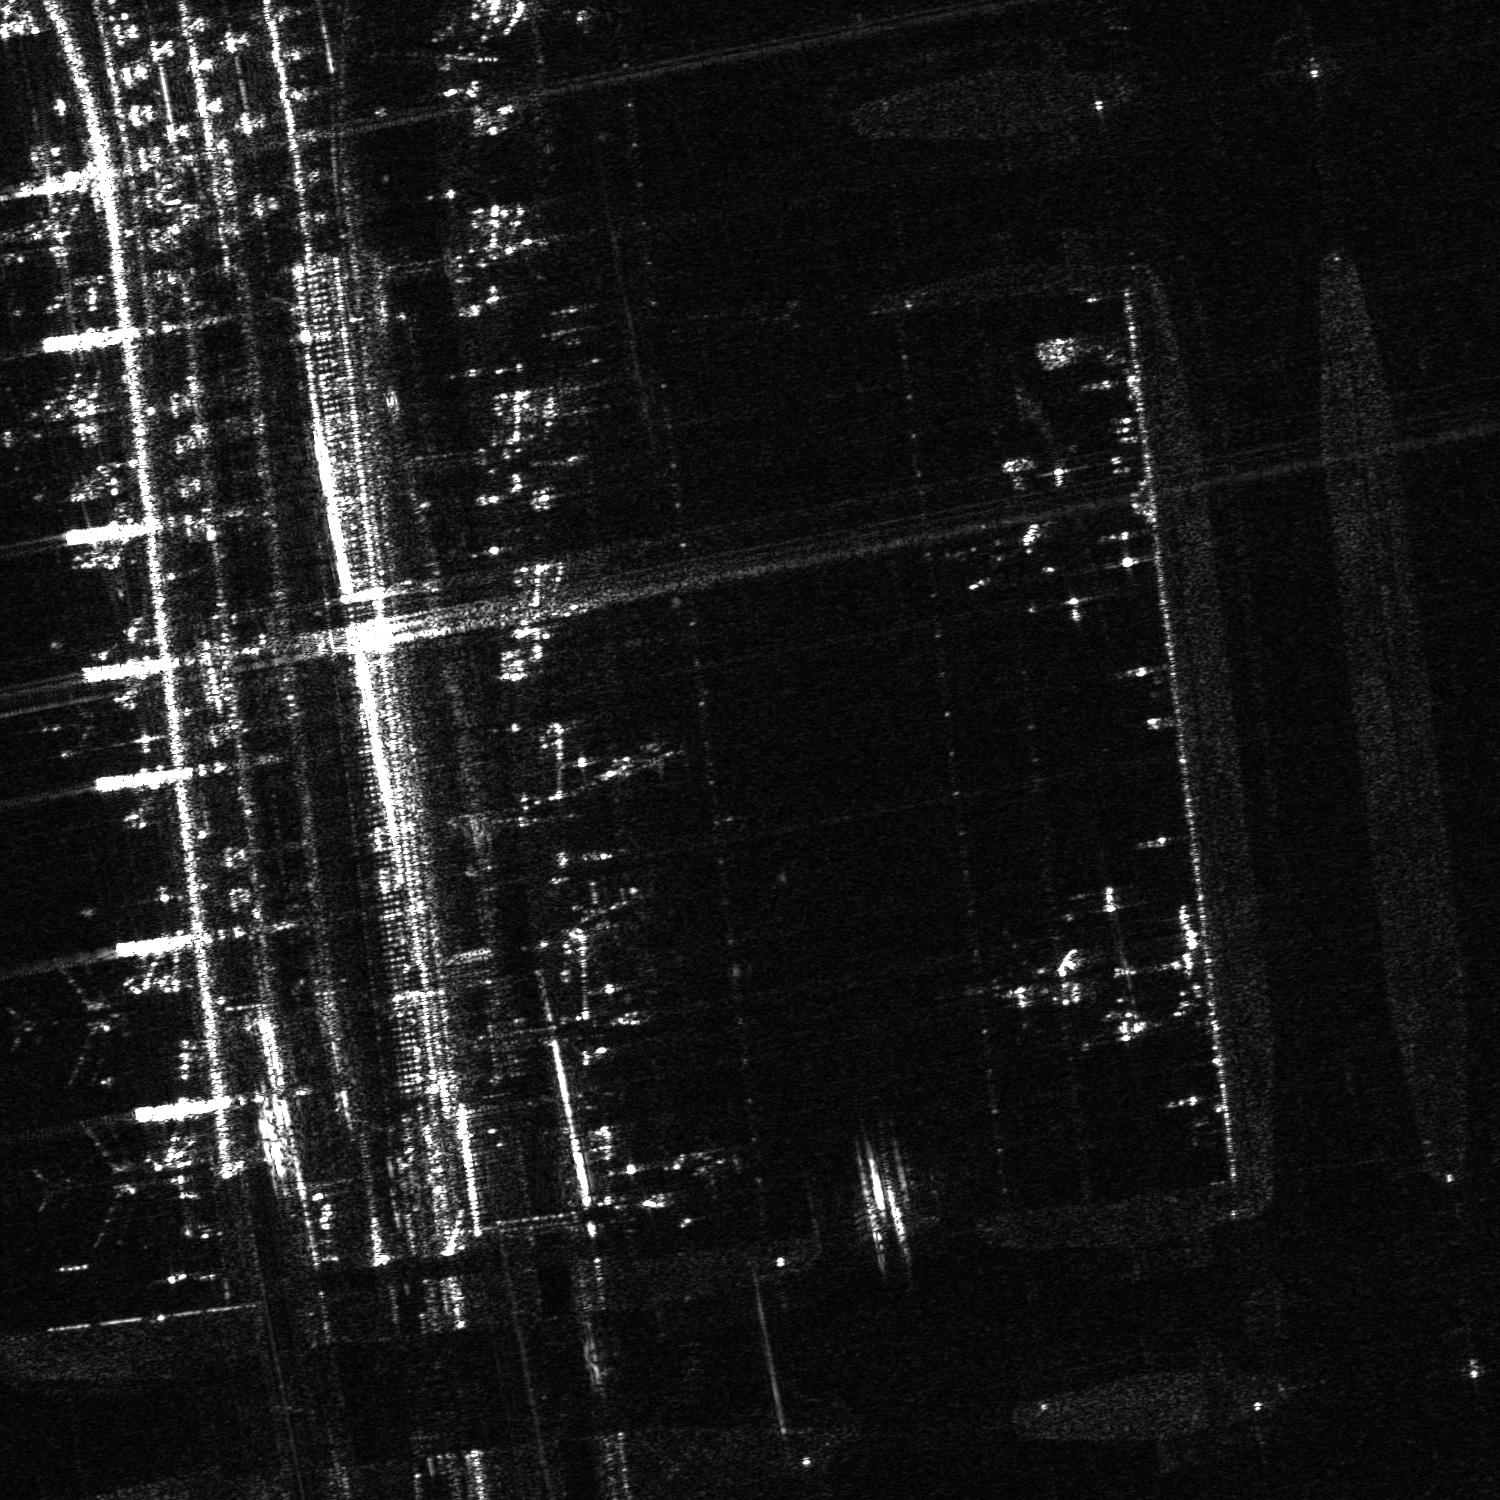A220: (36, 694, 111, 750)
A330: (25, 1122, 170, 1250)
Boeing787: (3, 959, 135, 1087)
